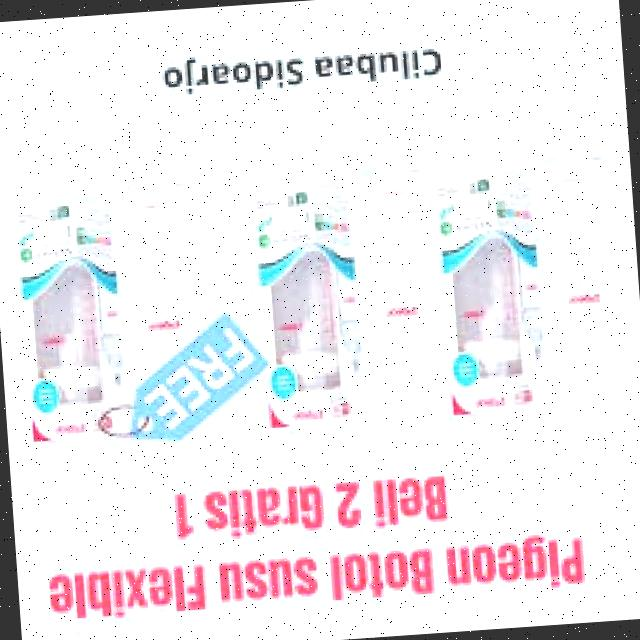bottle: (83, 154, 252, 428), (328, 158, 472, 422), (504, 132, 636, 407)
